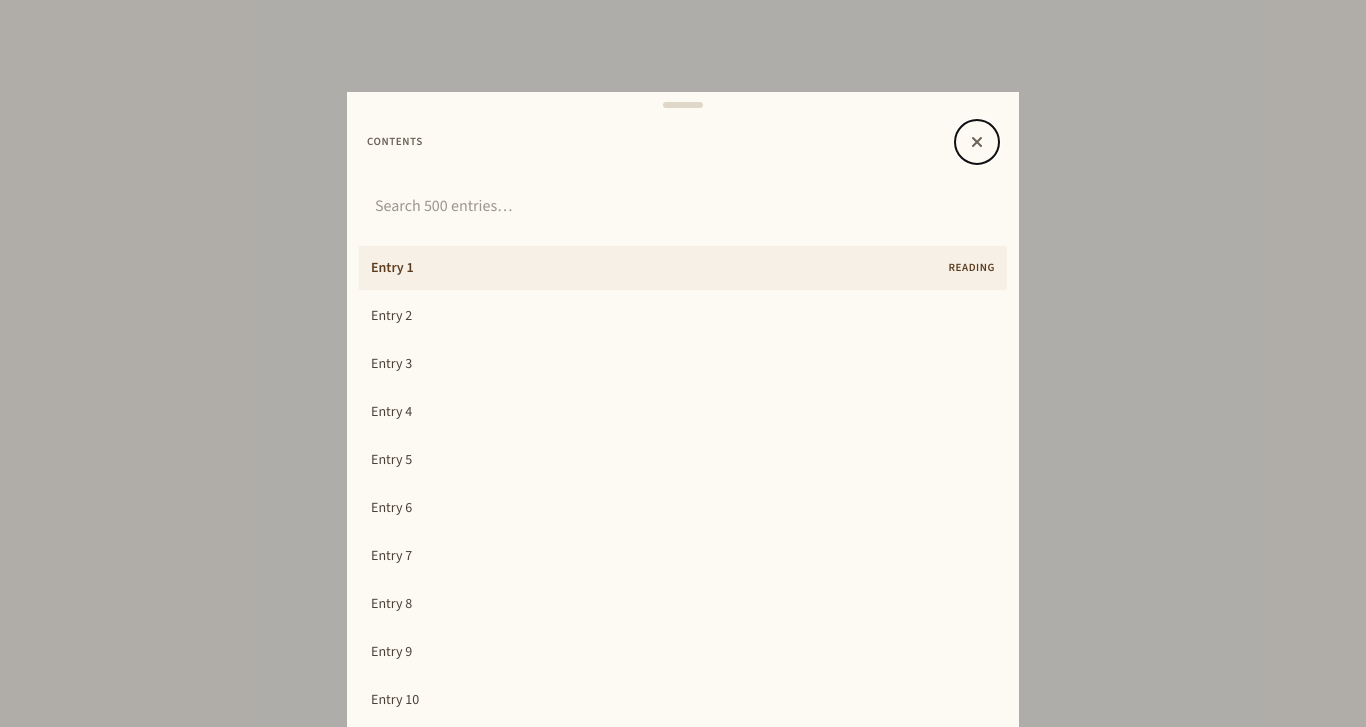
Scenario: WorkToc — bounded when the UNIT list is large › a query that matches nothing says so rather than rendering an empty drawer
The image size is (1366, 727).
In the search field named "Search the contents": [683, 206] box 363,186 -> 1003,226, type "zzzznope"
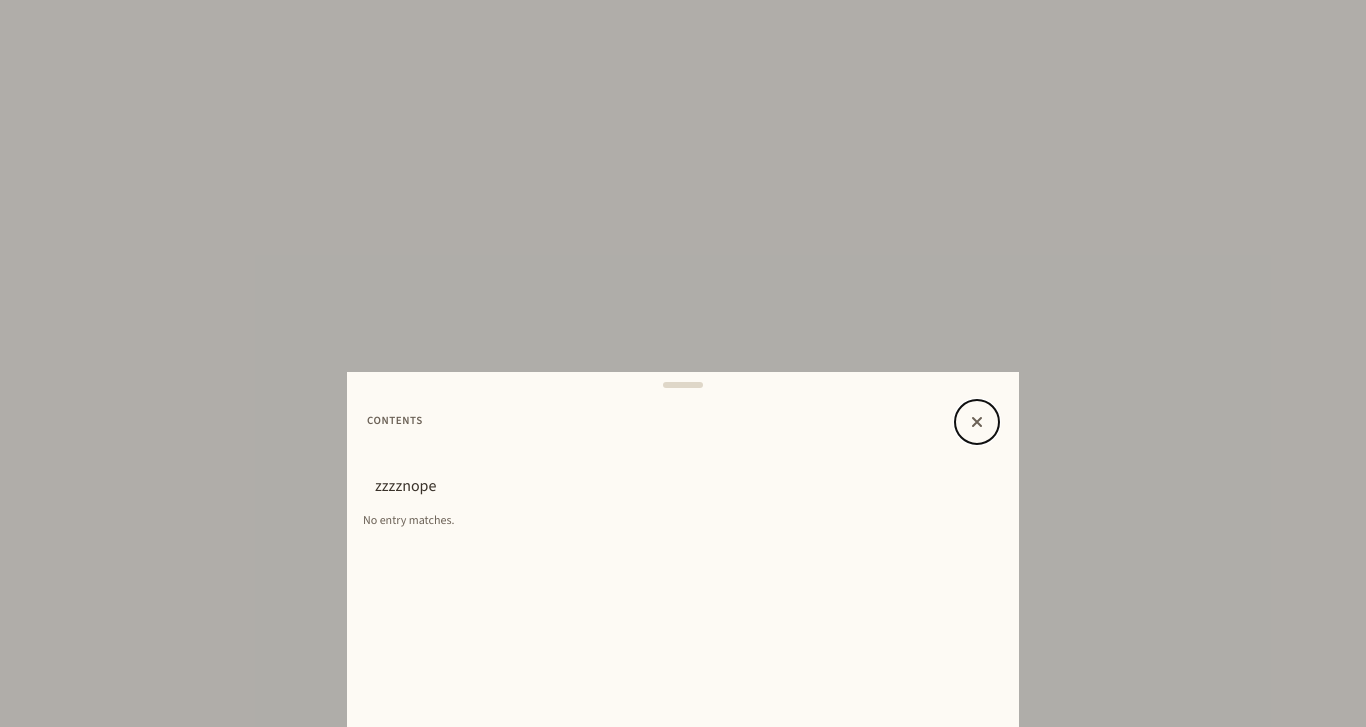
expect the text "No entry matches." is shown: met, box 363,512 -> 454,528
